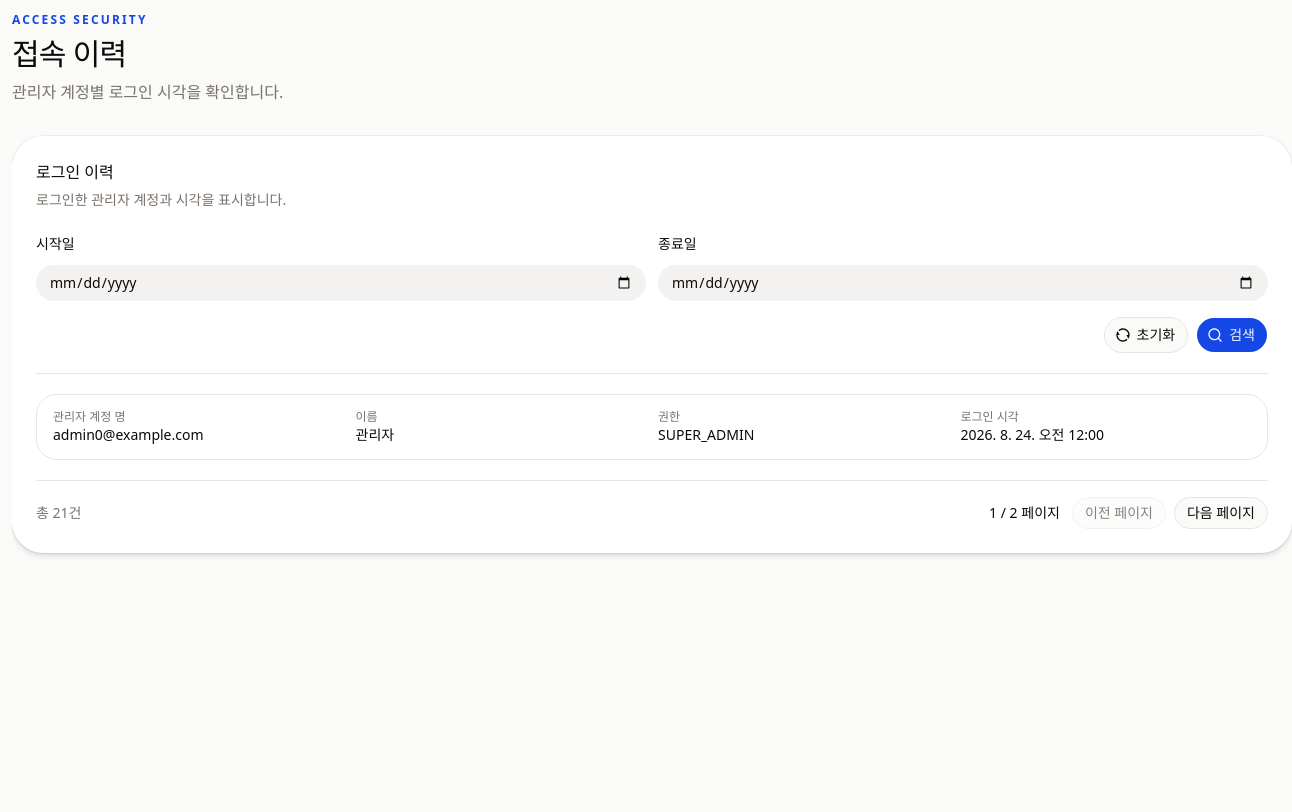
requests the next page and disables the last-page button
This screenshot has width=1292, height=812.
Expected: the button "이전 페이지" is disabled, [1072,497,1166,529]
Click the button "다음 페이지": point(1221, 513) [1174,497,1268,529]
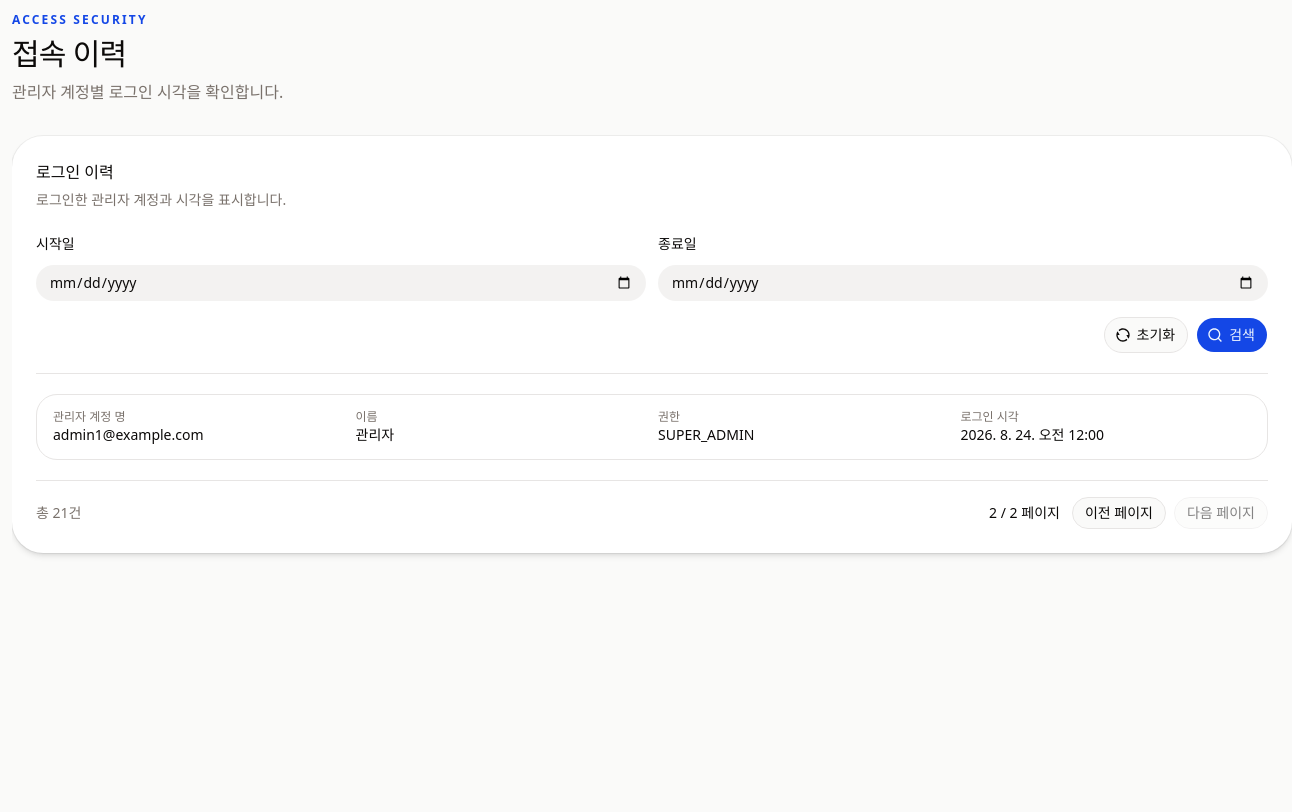
Expected: the text "admin1@example.com" is shown, [53,425,204,444]
Expected: the button "다음 페이지" is disabled, [1174,497,1268,529]
